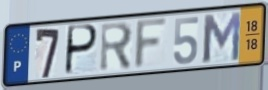5: (173, 15, 200, 66)
7: (35, 27, 61, 80)
F: (132, 15, 171, 73)
M: (201, 10, 243, 65)
P: (63, 23, 100, 77)
R: (99, 20, 135, 74)
